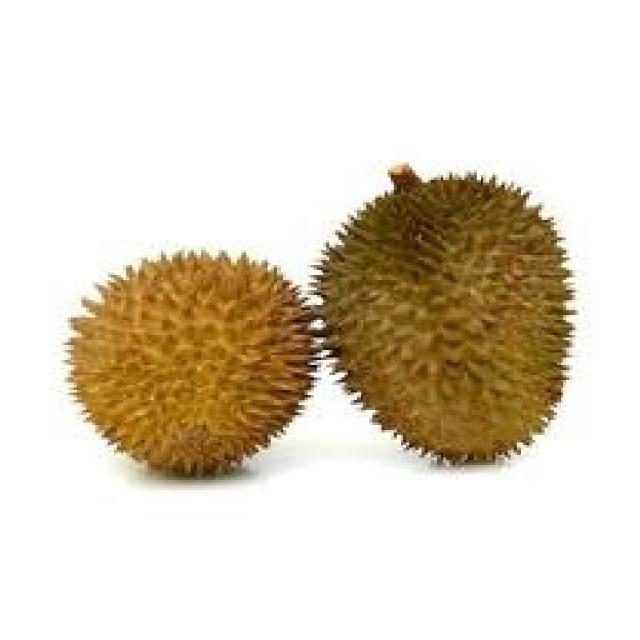fruit: (286, 155, 603, 500), (37, 220, 338, 502)
